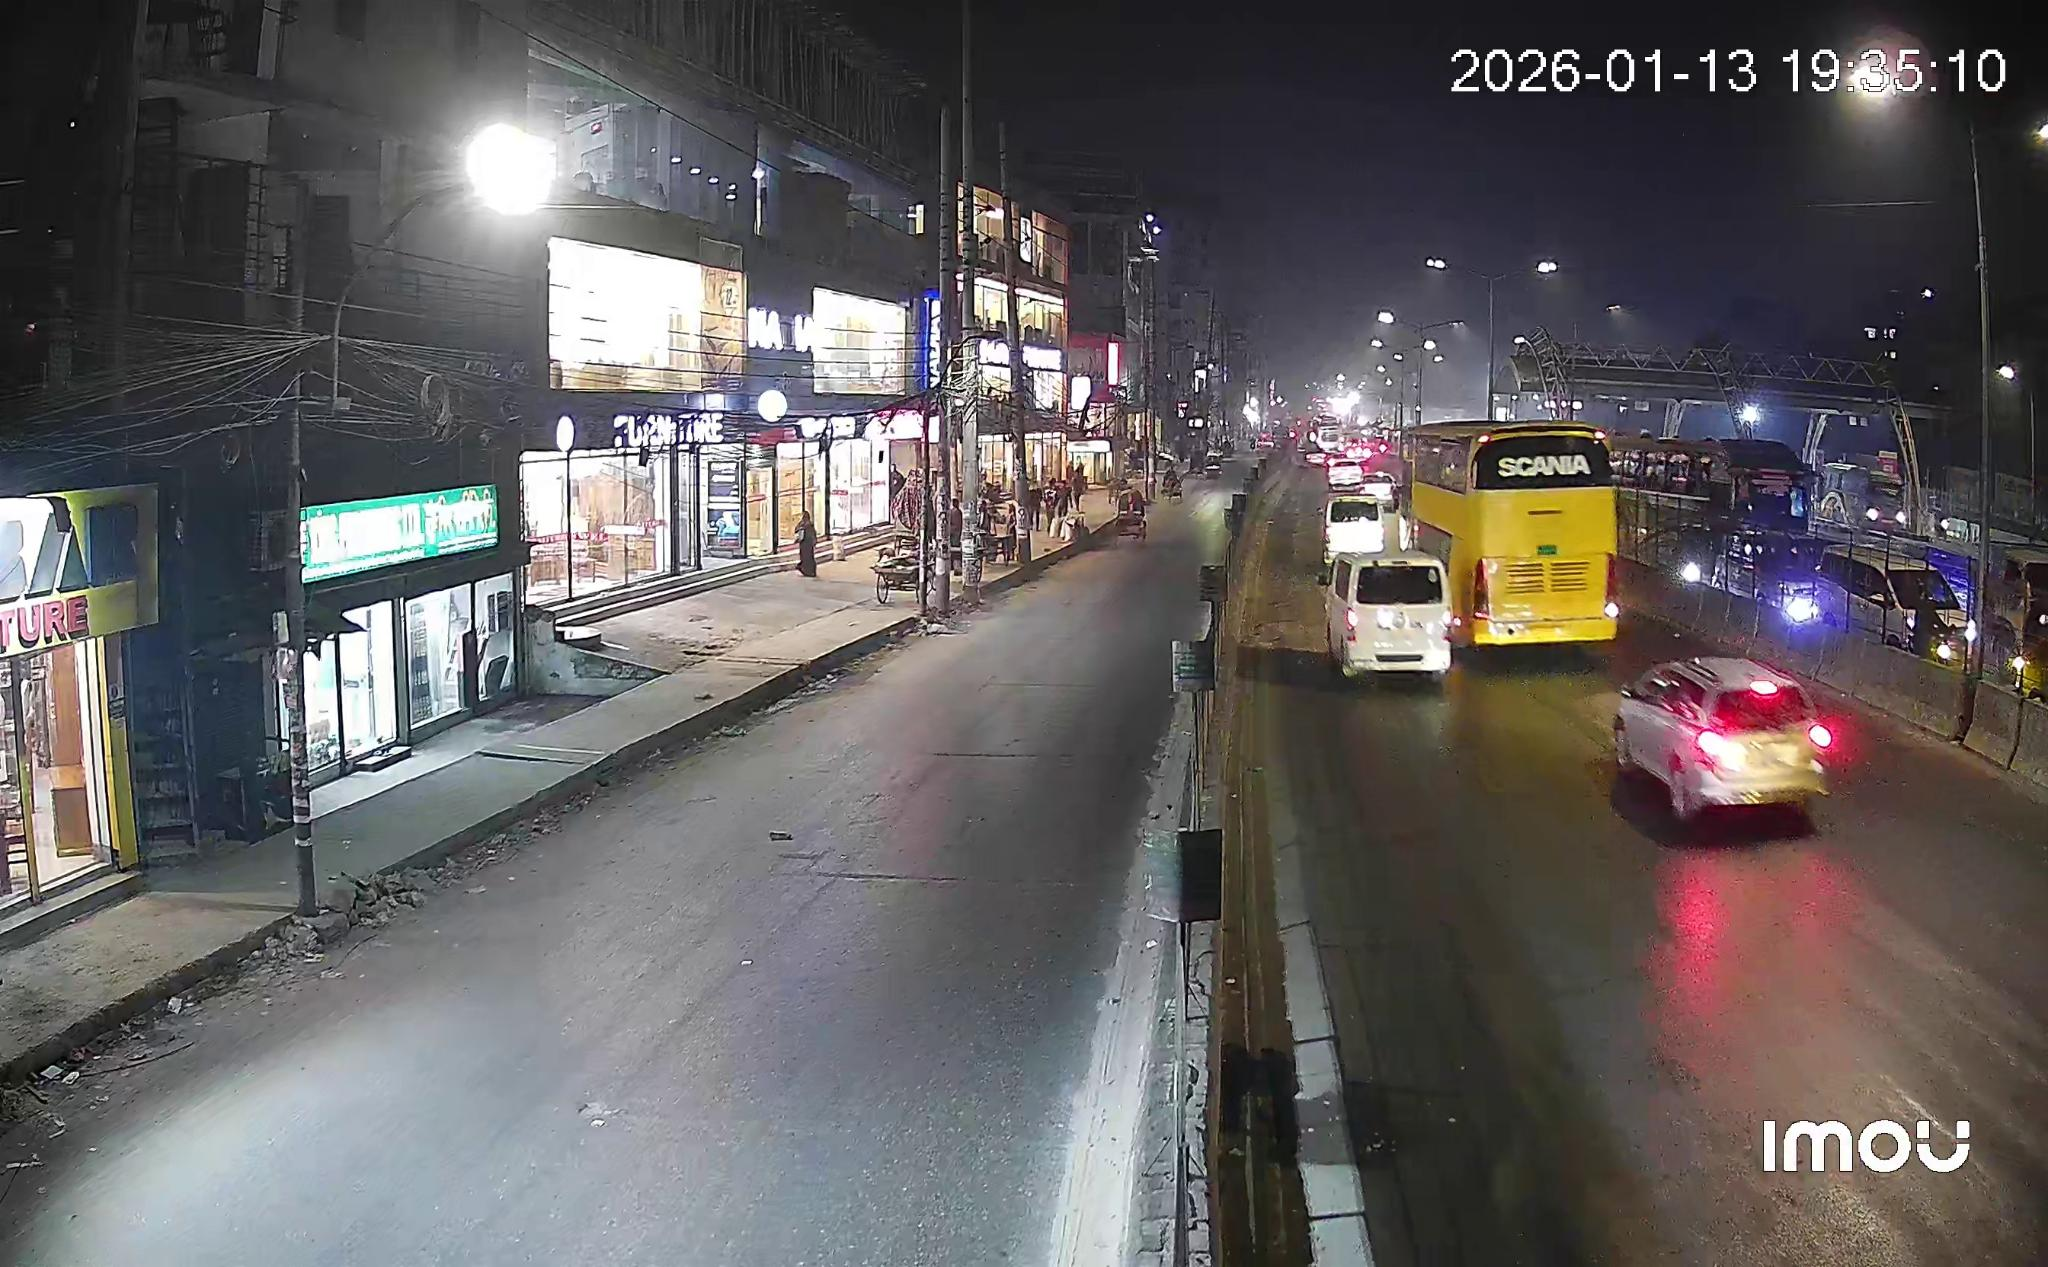Bus: (1403, 420, 1619, 647)
Microbus: (1319, 552, 1458, 682), (1321, 493, 1391, 582)
Private-Sedan Car: (1612, 657, 1834, 821)
